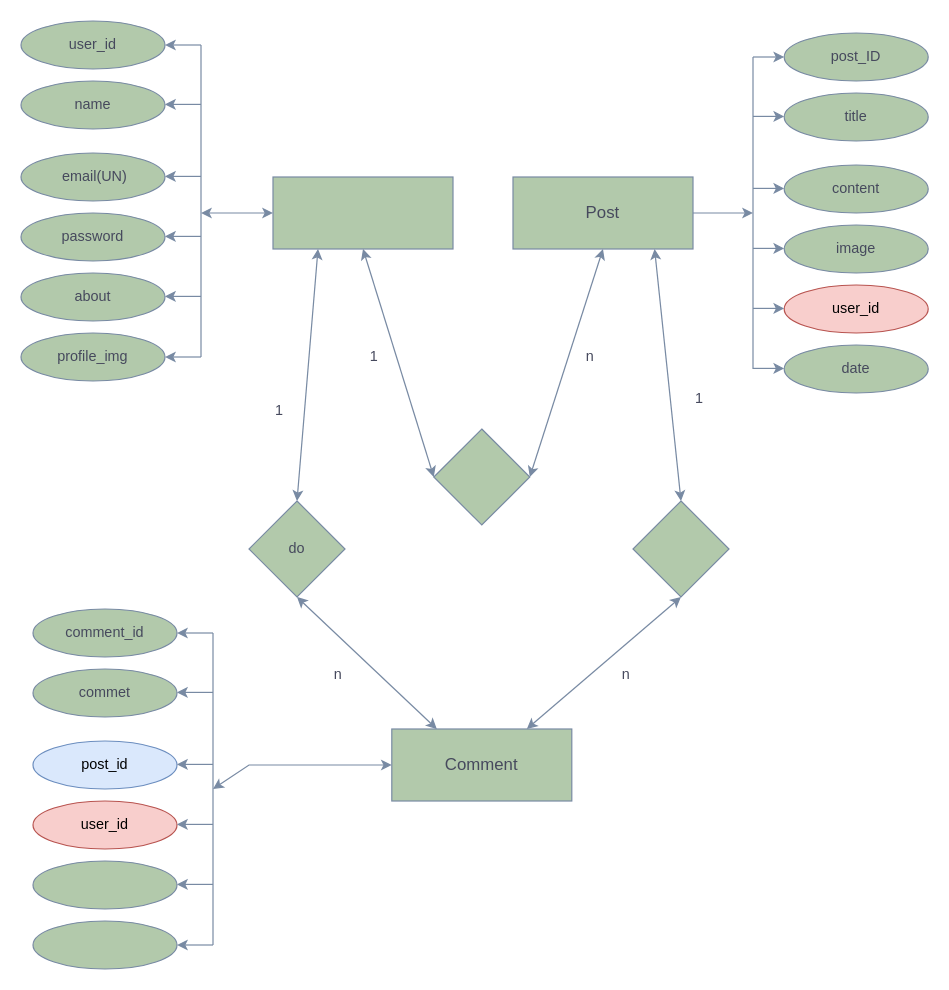
The diagram is 949 pixels wide and 990 high, and some of its shapes have lost their labels. The centre of each missing label's shape, as x and y in pixels:
"Can Hava" belongs at (481,476).
"have" belongs at (680,548).
"User" belongs at (362,212).
